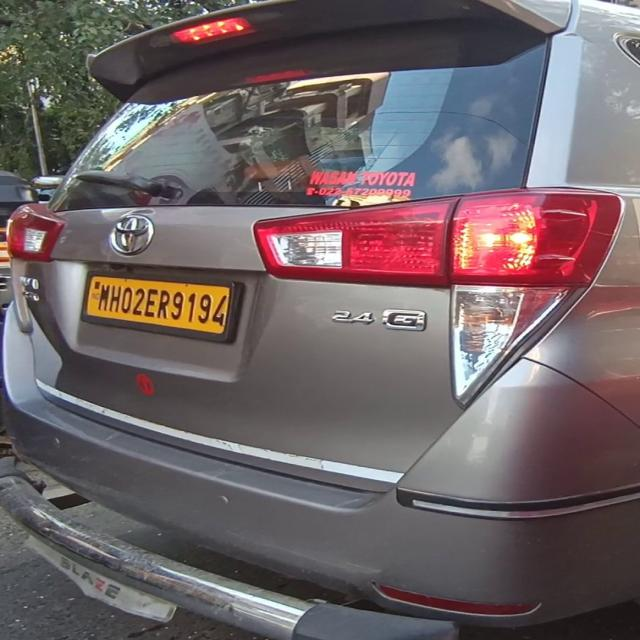Plate: (85, 275, 230, 335)
